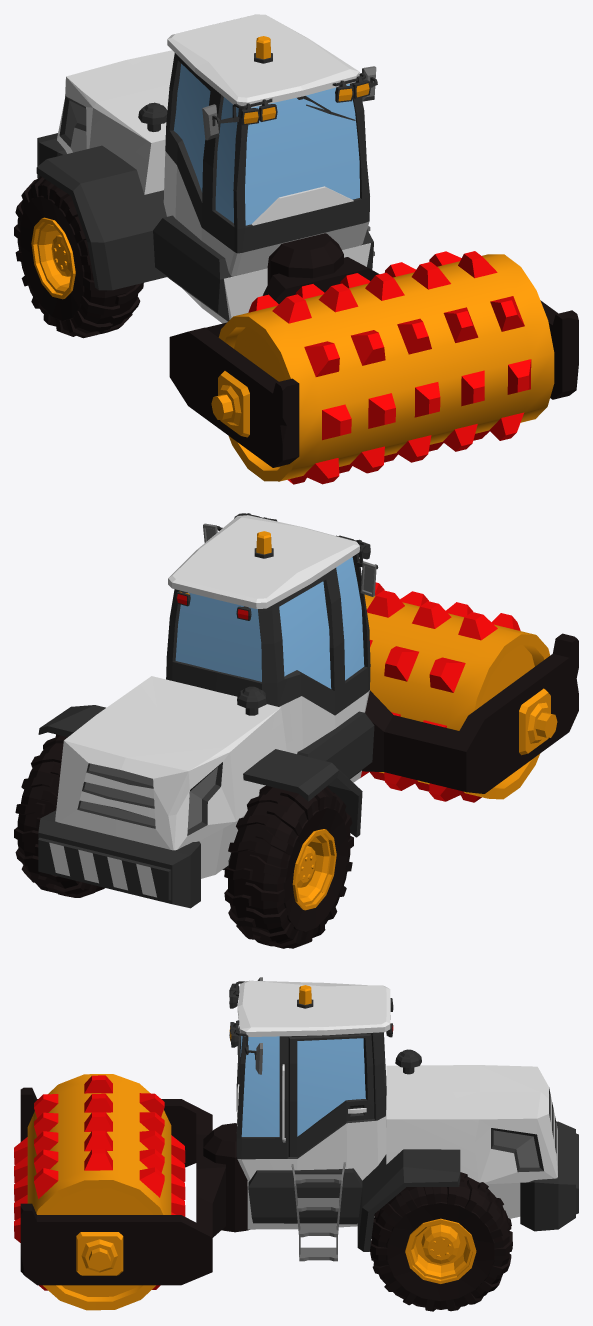
The model's file is Truck.fbx.
3 views of the same model, one above another, from view 1: azimuth 30°, elevation 25°; view 2: azimuth 150°, elevation 25°; view 3: azimuth 270°, elevation 25° (orthographic). The views are drawn at different scales.
Parts seen in each view (by area): view 1: Truck_Body, Truck_Roller, Truck_Front, Truck_Glass, Truck_Wheel_R, Truck_Balka, Truck_gl_r, Truck_fl, Truck_Back; view 2: Truck_Body, Truck_Roller, Truck_Wheel_R, Truck_Front, Truck_Glass, Truck_Back, Truck_Wheel_L, Truck_b, Truck_Balka, Truck_fl, Truck_gl_r; view 3: Truck_Body, Truck_Roller, Truck_Front, Truck_Wheel_L, Truck_Glass, Truck_Back, Truck_Balka, Truck_fl.
Boxes of the visible parts, x1=… form: Truck_Body: x1=36, y1=14, x2=374, y2=323; Truck_Roller: x1=218, y1=251, x2=554, y2=484; Truck_Front: x1=169, y1=233, x2=578, y2=467; Truck_Glass: x1=173, y1=63, x2=359, y2=225; Truck_Wheel_R: x1=14, y1=176, x2=143, y2=338; Truck_Balka: x1=211, y1=371, x2=249, y2=437; Truck_gl_r: x1=202, y1=98, x2=272, y2=140; Truck_fl: x1=138, y1=102, x2=167, y2=131; Truck_Back: x1=37, y1=133, x2=66, y2=178; Truck_Body: x1=38, y1=513, x2=374, y2=878; Truck_Roller: x1=360, y1=582, x2=549, y2=802; Truck_Wheel_R: x1=224, y1=785, x2=353, y2=948; Truck_Front: x1=362, y1=633, x2=578, y2=793; Truck_Glass: x1=175, y1=557, x2=364, y2=688; Truck_Back: x1=38, y1=810, x2=200, y2=908; Truck_Wheel_L: x1=14, y1=734, x2=104, y2=897; Truck_b: x1=38, y1=837, x2=171, y2=900; Truck_Balka: x1=519, y1=688, x2=557, y2=755; Truck_fl: x1=237, y1=686, x2=266, y2=715; Truck_gl_r: x1=336, y1=535, x2=378, y2=596; Truck_Body: x1=229, y1=980, x2=557, y2=1261; Truck_Roller: x1=14, y1=1074, x2=185, y2=1310; Truck_Front: x1=20, y1=1087, x2=249, y2=1285; Truck_Wheel_L: x1=370, y1=1172, x2=512, y2=1311; Truck_Glass: x1=240, y1=1036, x2=365, y2=1136; Truck_Back: x1=520, y1=1121, x2=575, y2=1231; Truck_Balka: x1=76, y1=1232, x2=123, y2=1275; Truck_fl: x1=395, y1=1049, x2=421, y2=1074.
Bounding box in the file's own units: 219 × 209 × 379.
